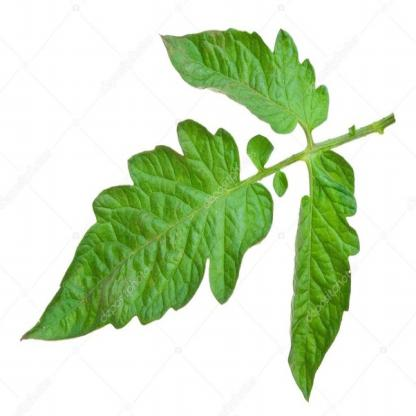tomato leaf: (20, 116, 279, 362), (280, 140, 359, 415), (160, 29, 334, 142)
